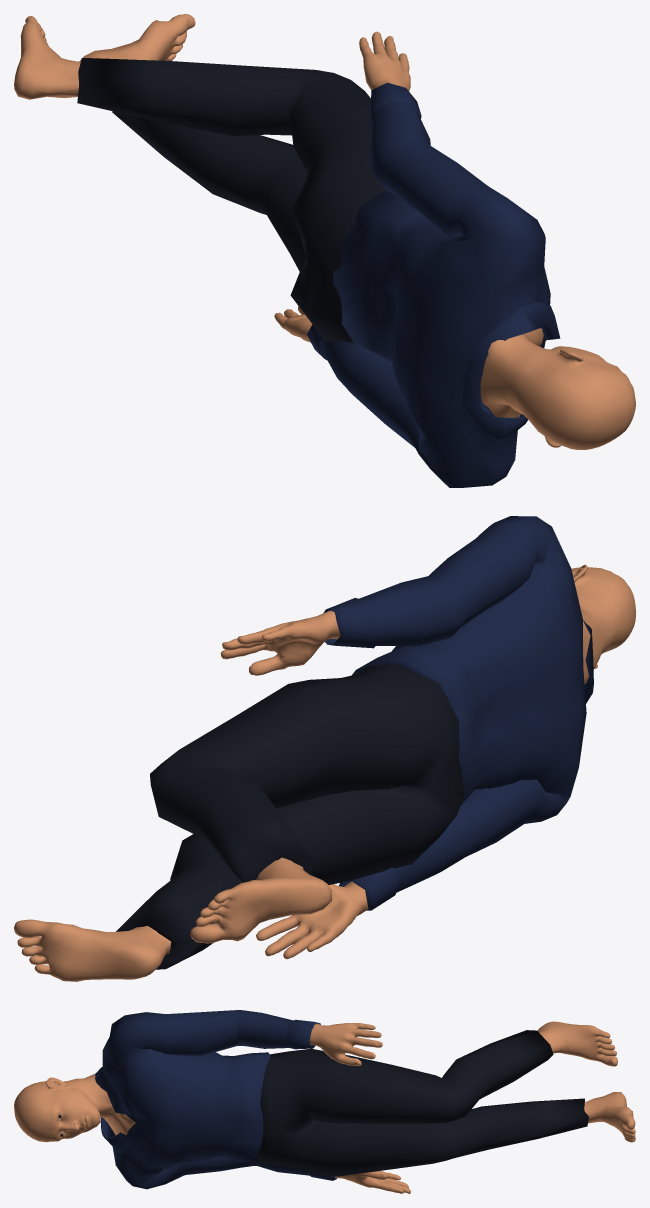
File: walk.obj
The picture shows the model from 3 angles, top to bottom: view 1: azimuth 30°, elevation 25°; view 2: azimuth 150°, elevation 25°; view 3: azimuth 270°, elevation 25°; orthographic projection. The views are drawn at different scales.
Bounding box in the file's own units: 0.5024 × 0.5497 × 1.7.
